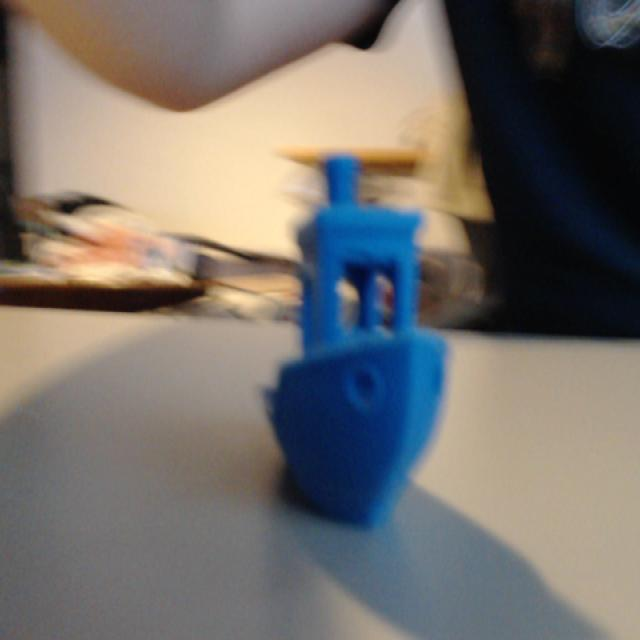benchy: (261, 147, 452, 529)
